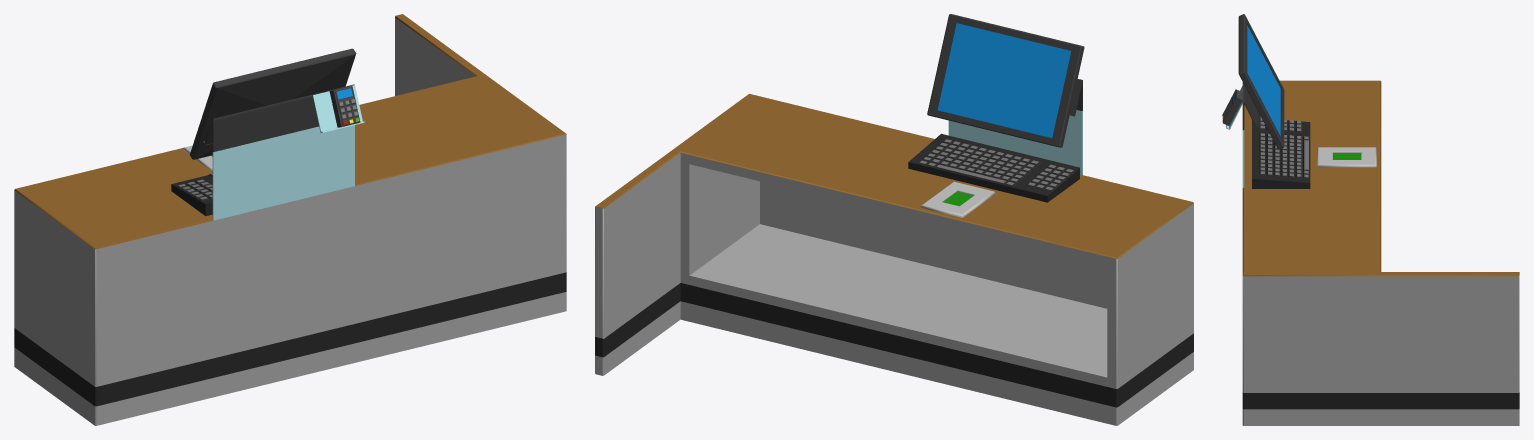
Rendered from checkout_sm_right.glb.
3 renders of one model, left to right at view 1: azimuth 30°, elevation 25°; view 2: azimuth 150°, elevation 25°; view 3: azimuth 270°, elevation 25°, orthographic. The views are drawn at different scales.
Parts seen in each view (by area): view 1: checkout_sm_right; view 2: checkout_sm_right; view 3: checkout_sm_right.
Part boxes in pixels (x1,y1,x2,y2): checkout_sm_right: [14, 14, 566, 425]; checkout_sm_right: [595, 14, 1193, 425]; checkout_sm_right: [1222, 14, 1519, 425].
Size of what is drawn, in the model's own units: 2.5 by 1.59 by 1.61.
2 materials, 1 textured.
